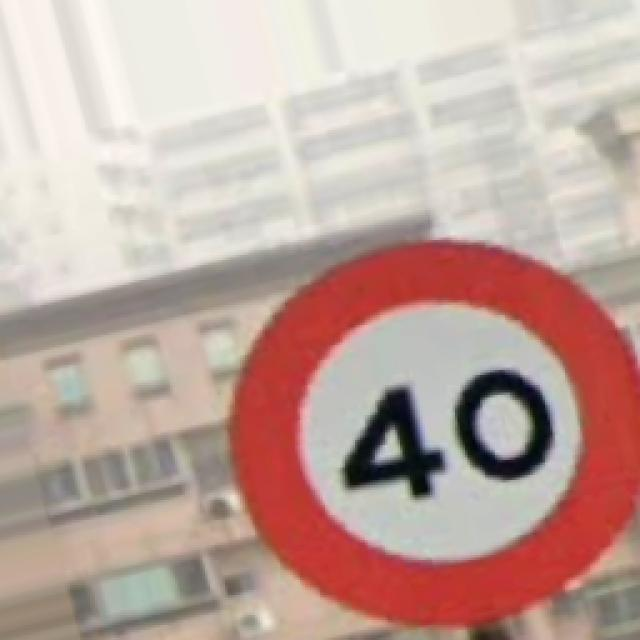Speed Limit -40-: (232, 242, 632, 622)
